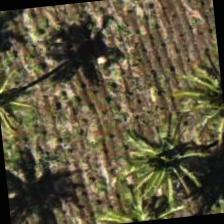Kelapa_Sawit: (122, 109, 222, 208)
